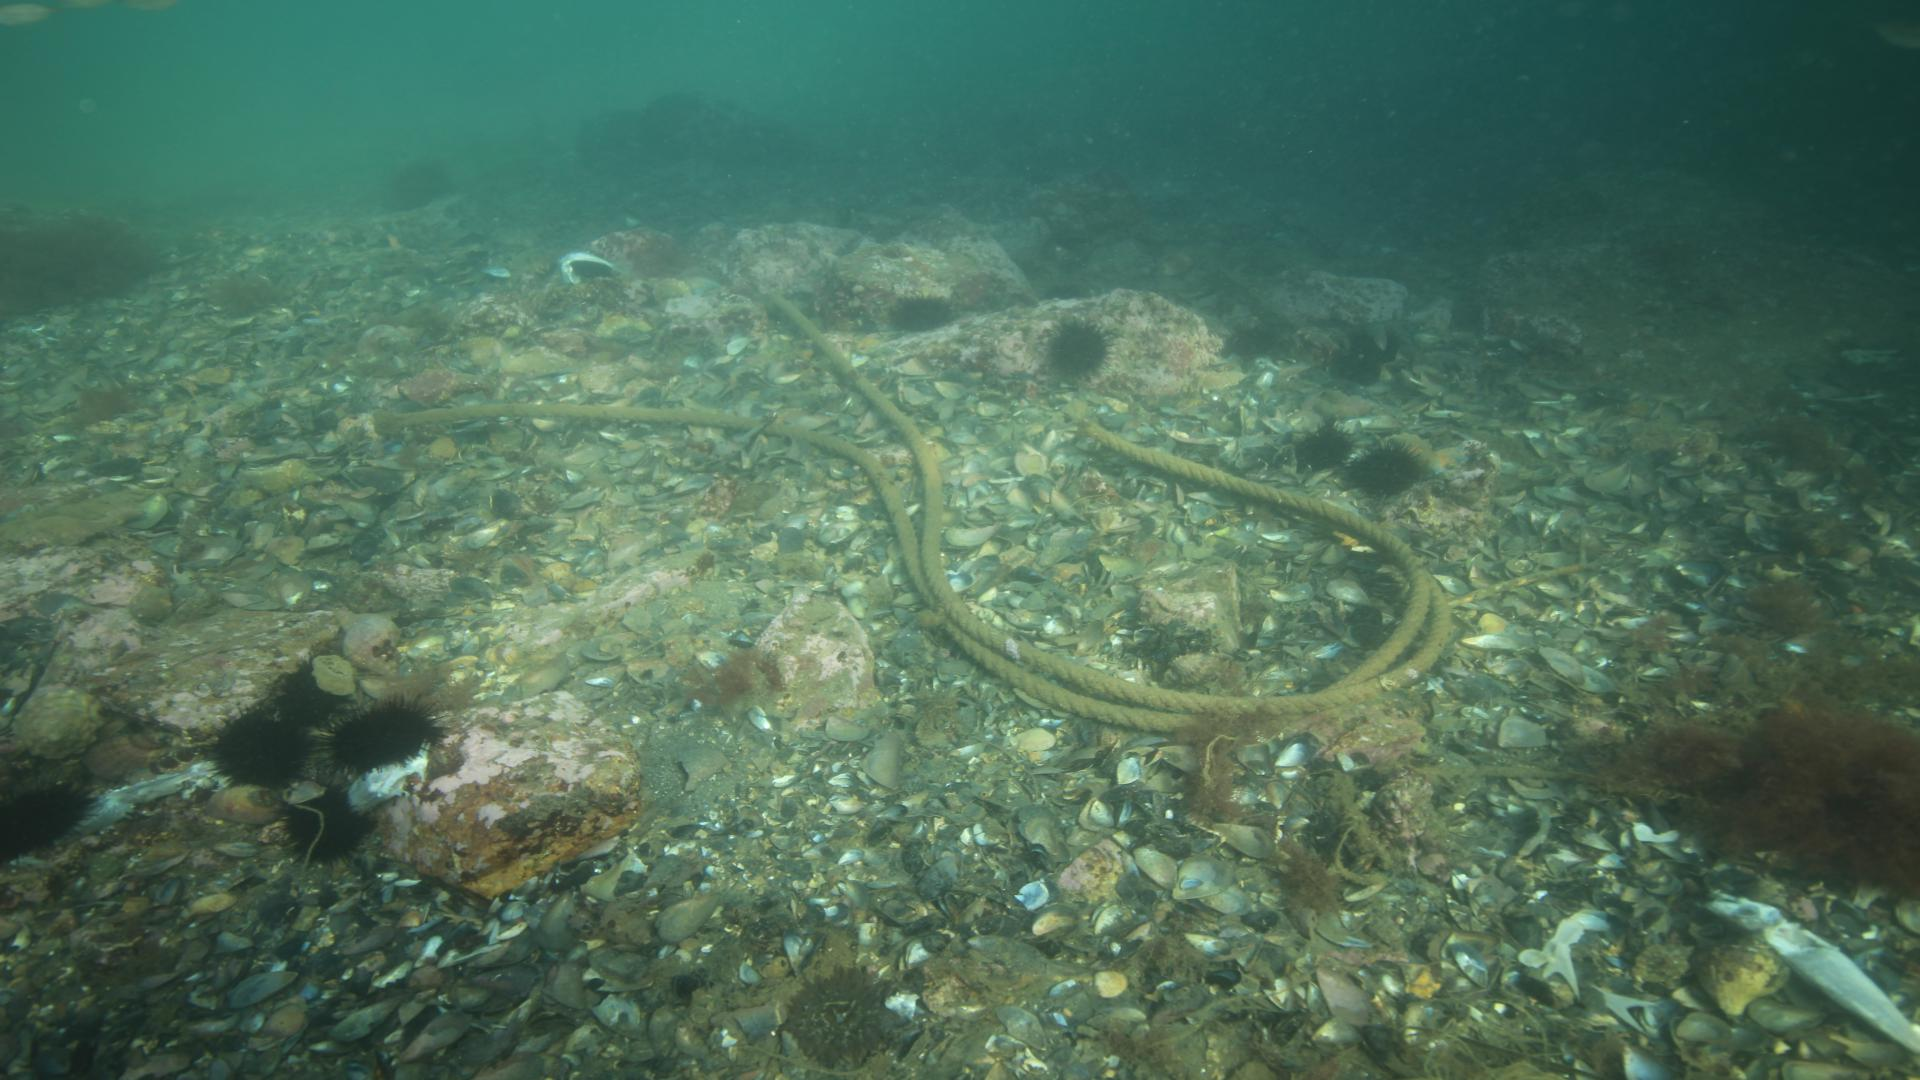bundle of ropes: (415, 277, 1465, 742)
